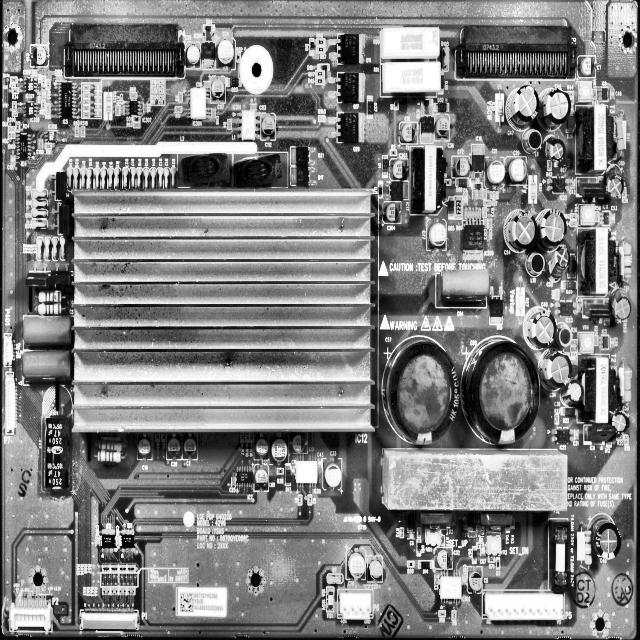PCB: (6, 0, 637, 639)
